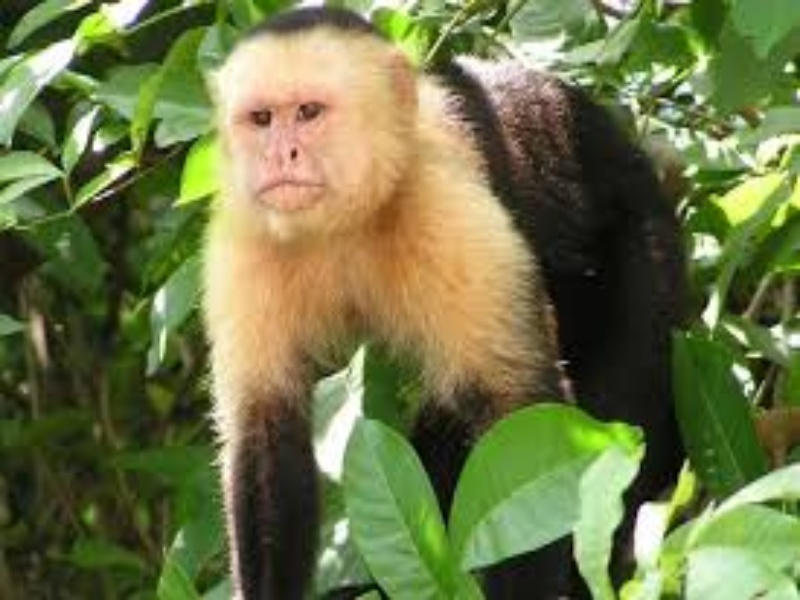monkey: (152, 9, 724, 520)
